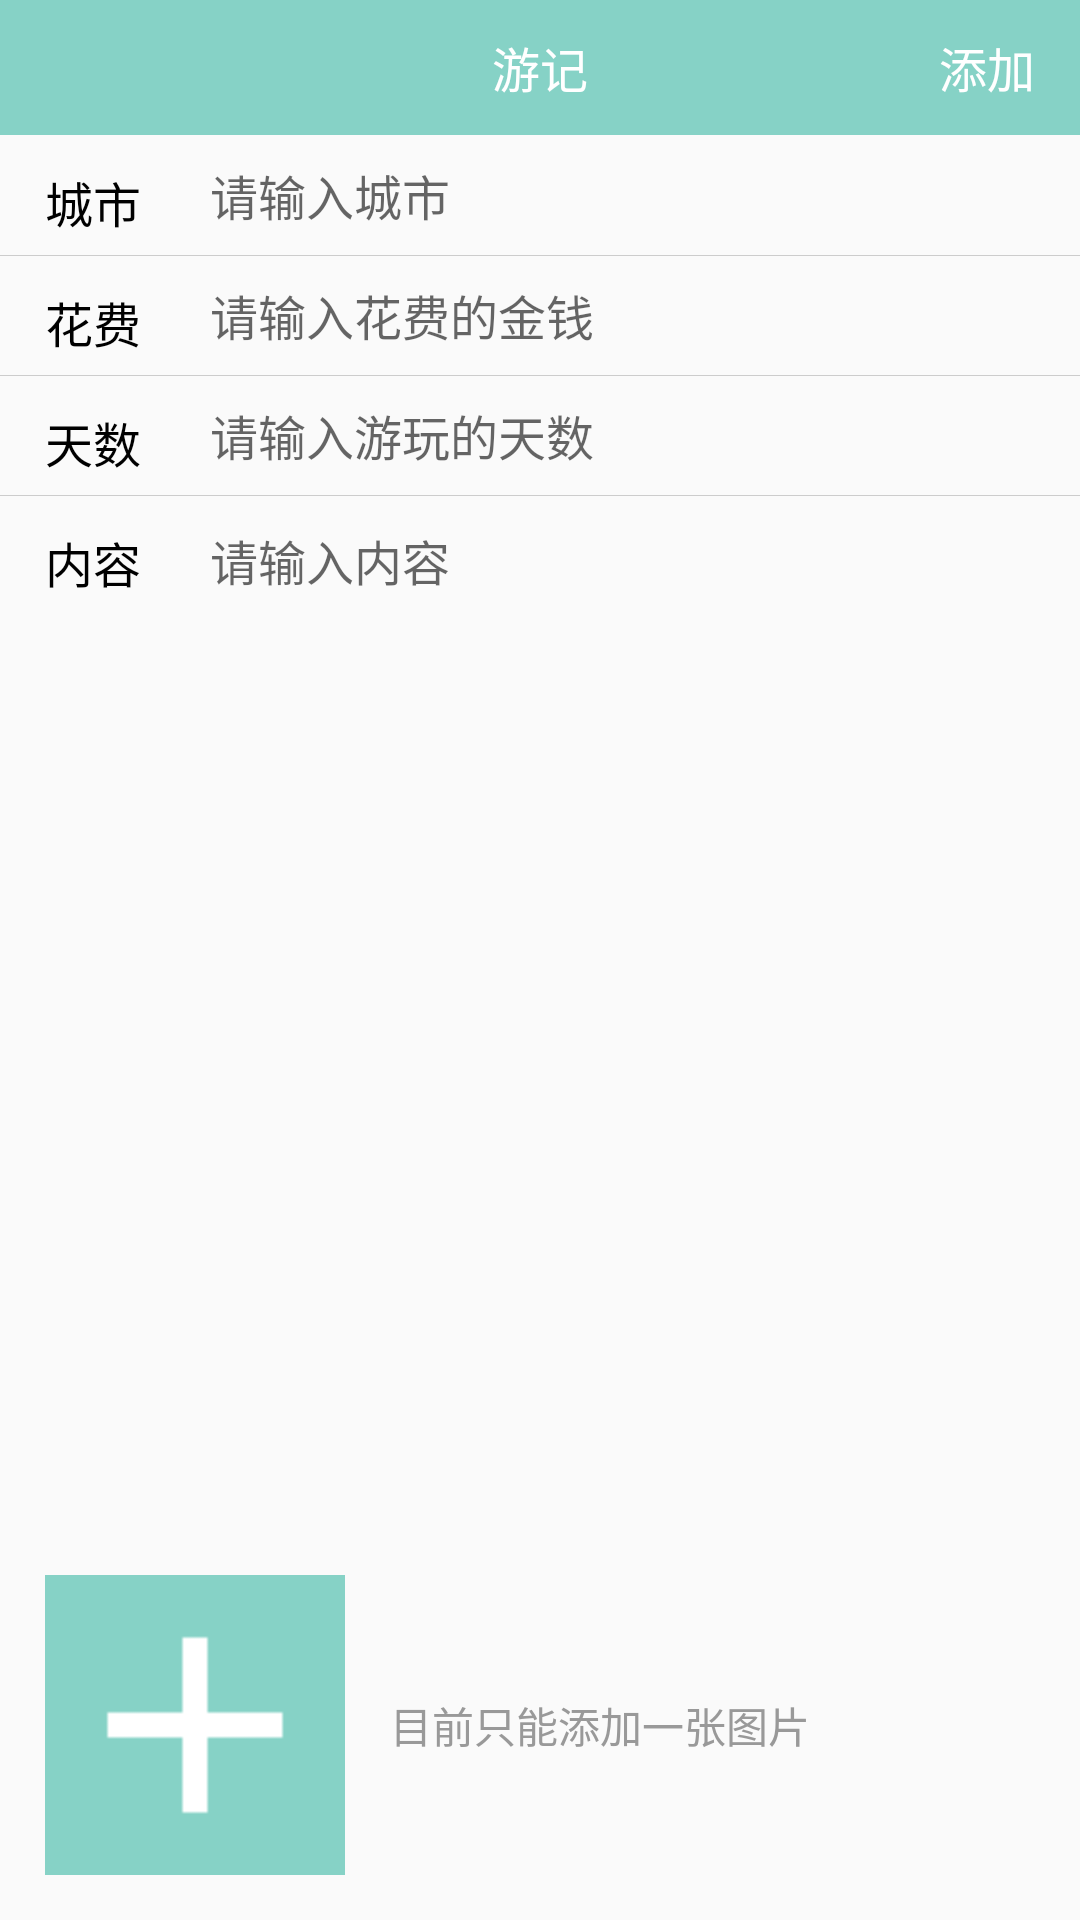

Screen size 1080px x 1920px. Icon name, then its center in pixels as (x=x, y=y):
add: (x=195, y=1725)
